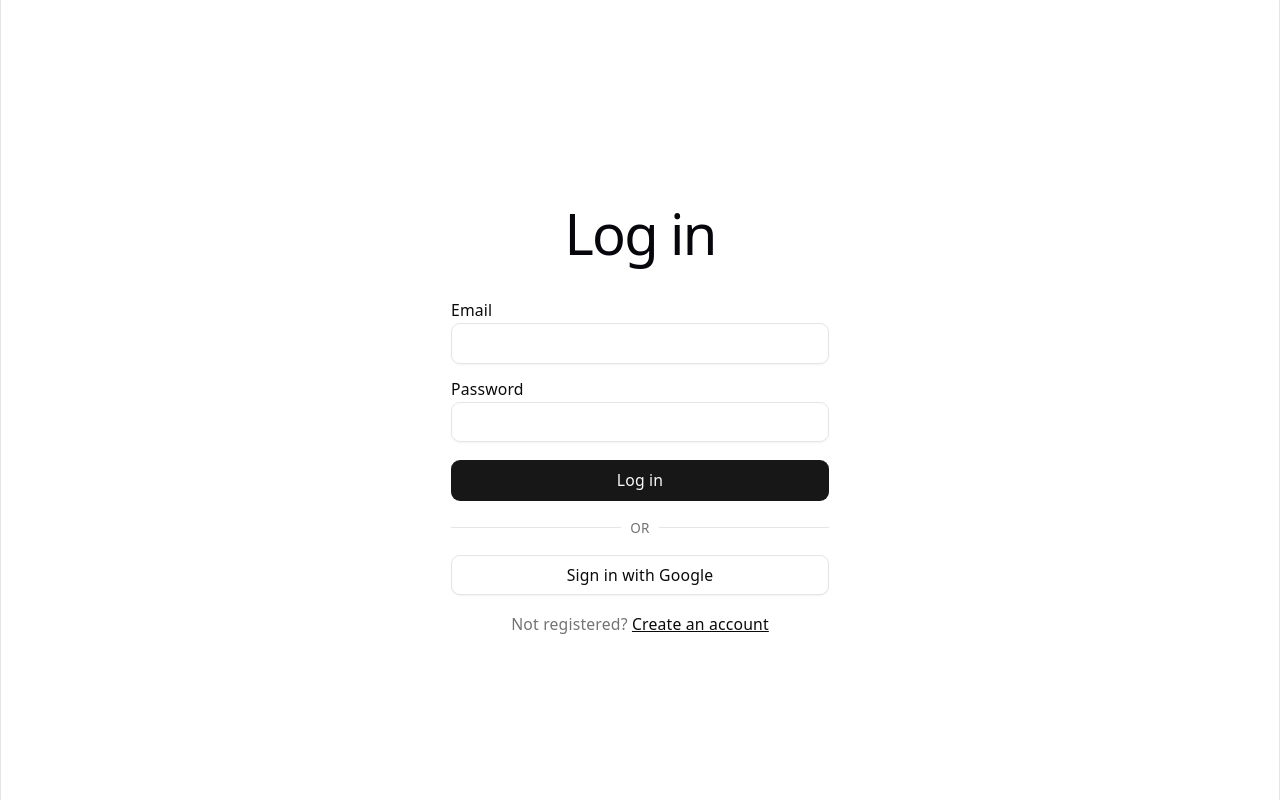
Test: LoginPage › on a 401, shows 'Incorrect email or password' and does not navigate
Type "brian@example.com" into the field labelled "Email" at (640, 343), box [451,323,829,364]
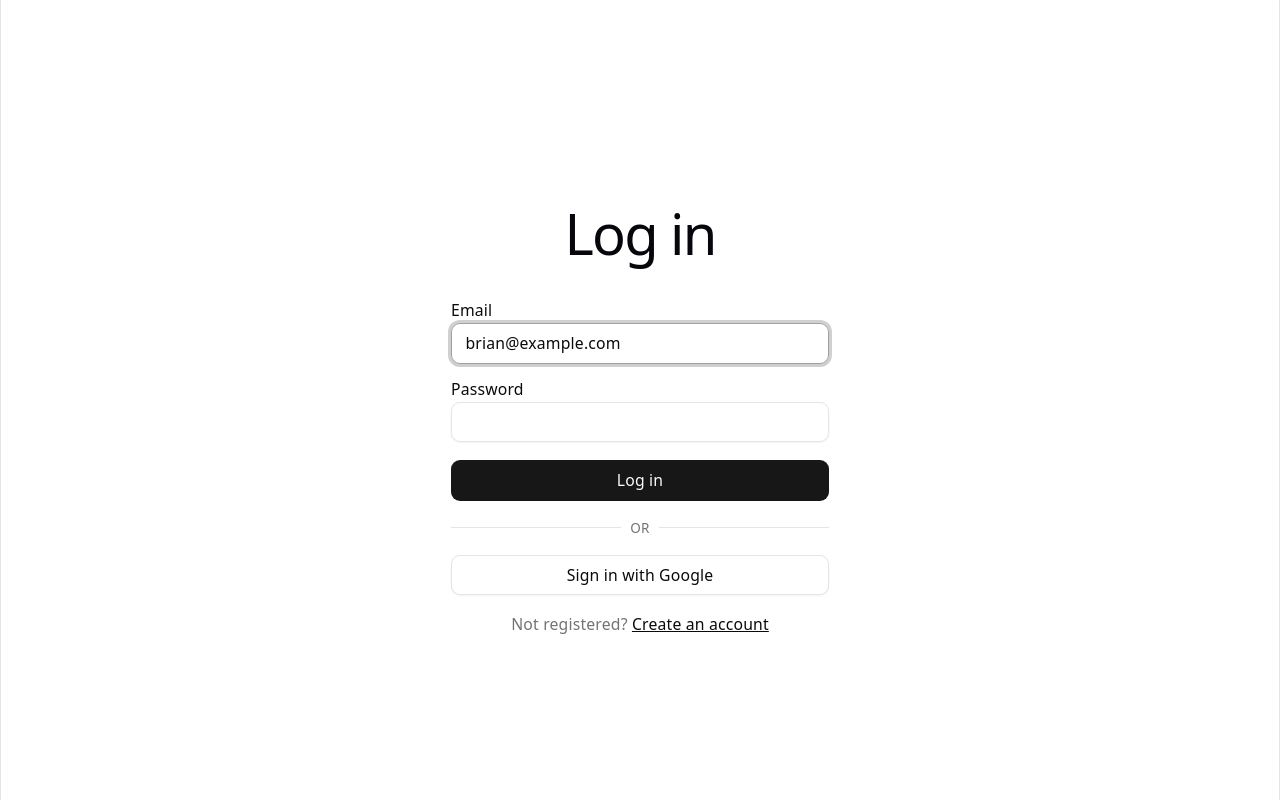
Type "wrong-password" into the password field labelled "Password" at (640, 422), box [451,402,829,442]
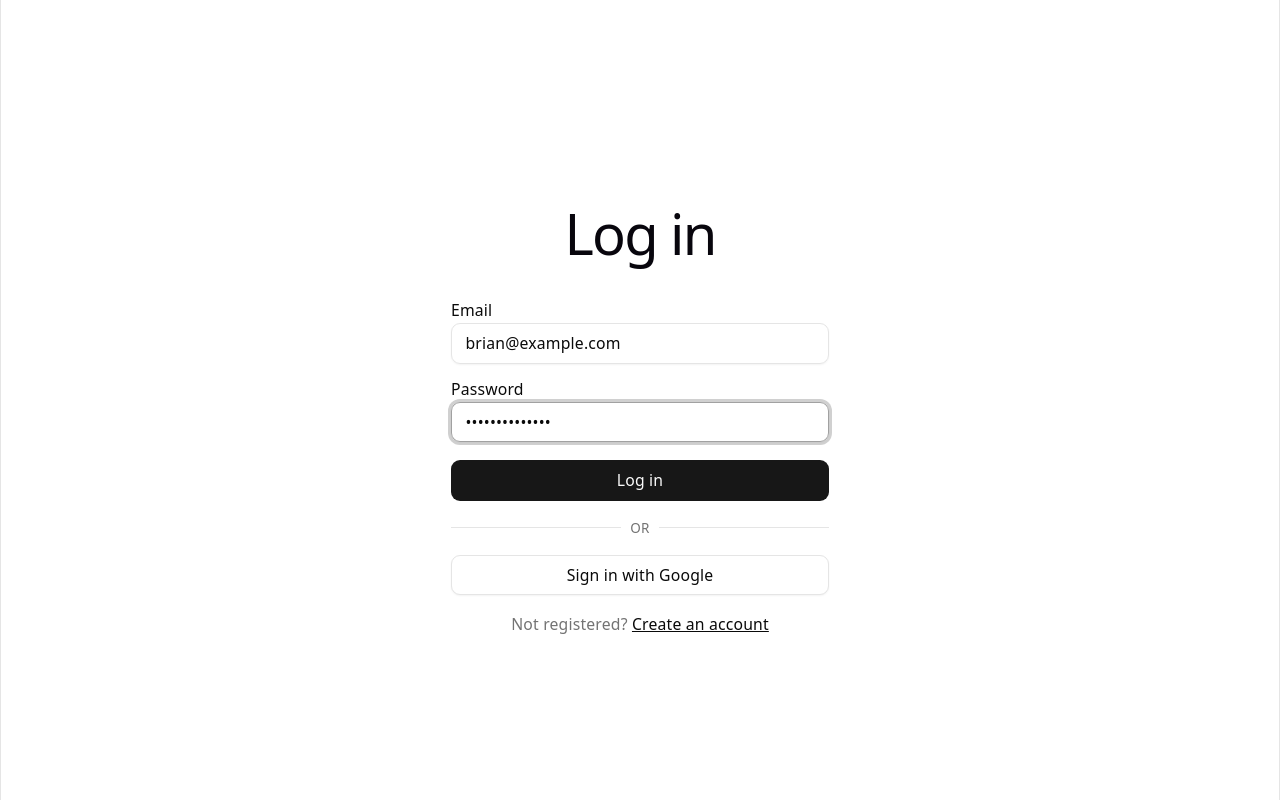
Click the button "Log in" at (640, 481), box [451,460,829,501]
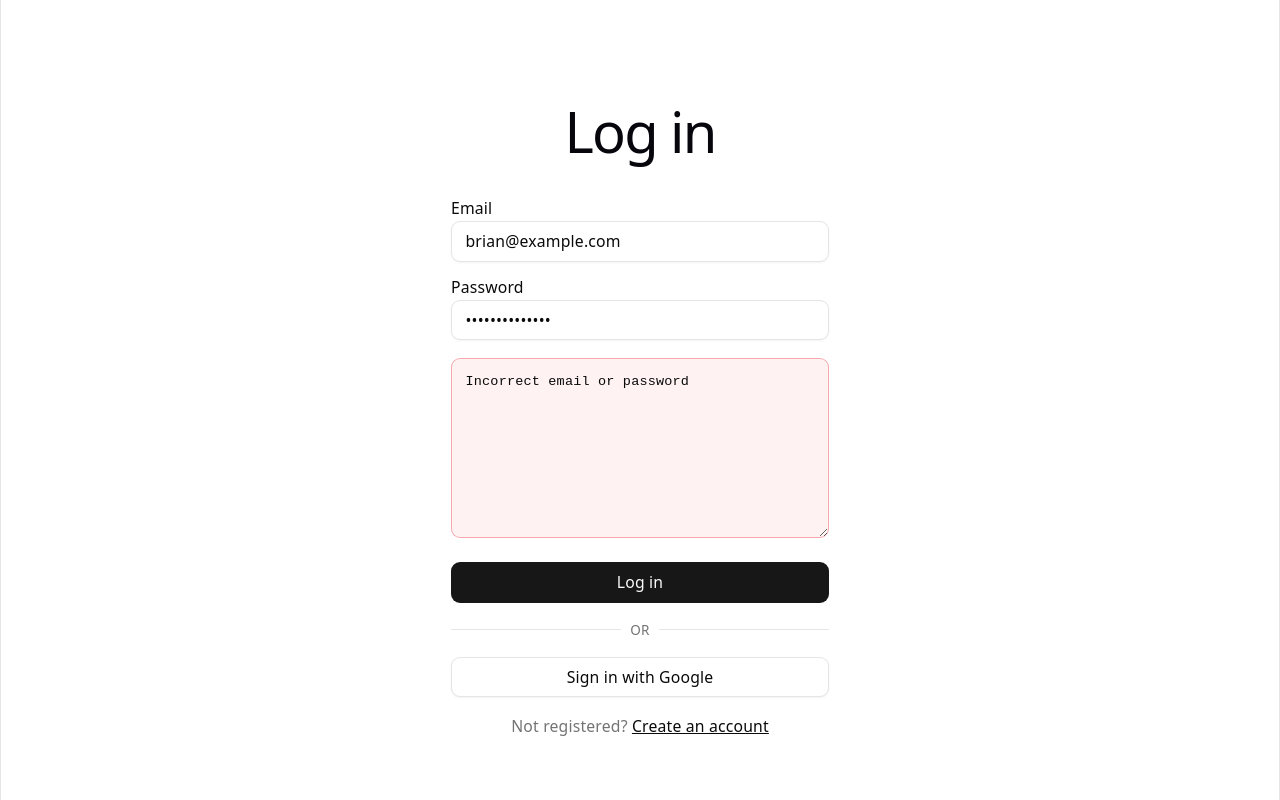
Check: the text box "incorrect email or password" is shown, box [451,358,829,538]
